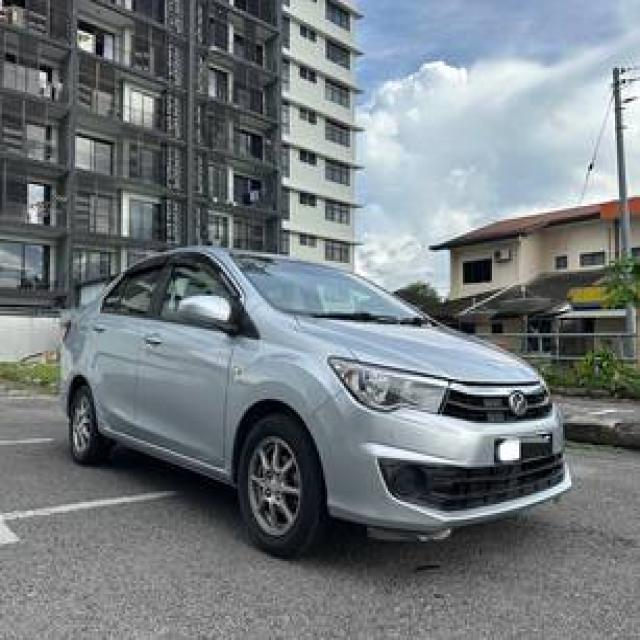PeroduaBezza: (56, 243, 573, 559)
